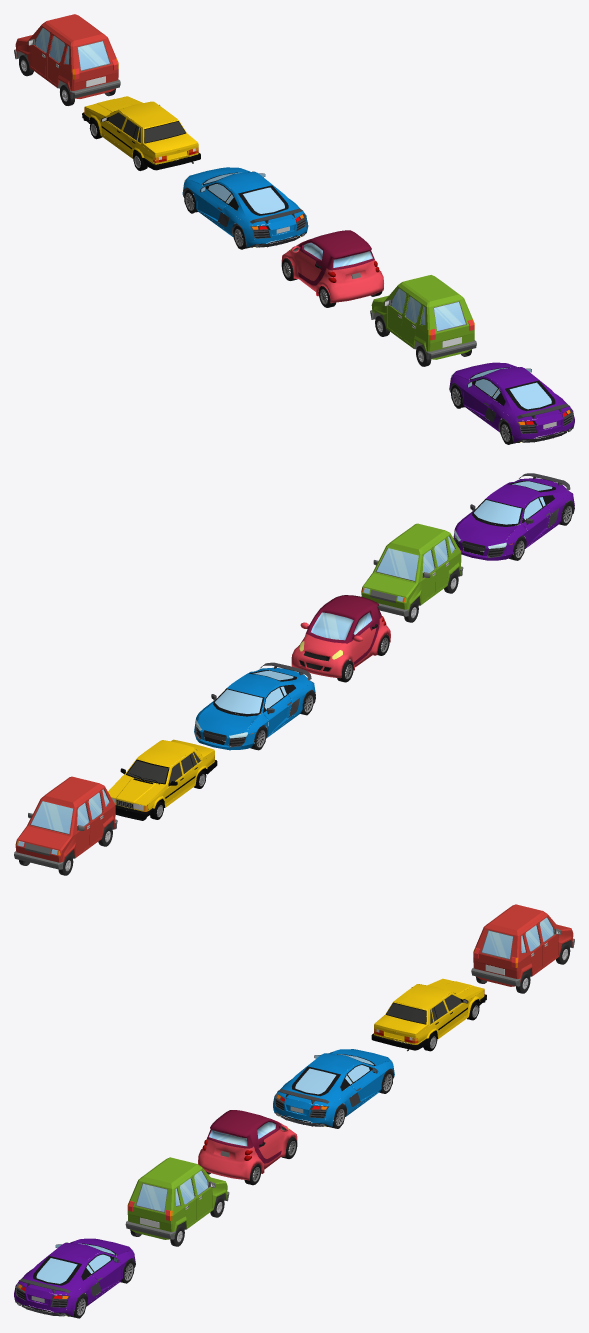
File: Cars.glb
3 renders of one model, top to bottom at view 1: azimuth 30°, elevation 25°; view 2: azimuth 150°, elevation 25°; view 3: azimuth 330°, elevation 25°, orthographic. The views are drawn at different scales.
Visible parts, largest first — view 1: car-3, car-6, car-5, car-1, car-2, car-4; view 2: car-3, car-6, car-1, car-5, car-4, car-2; view 3: car-6, car-3, car-1, car-5, car-2, car-4.
Boxes of the visible parts, x1=… form: car-3: x1=182, y1=167, x2=308, y2=247; car-6: x1=449, y1=362, x2=574, y2=442; car-5: x1=370, y1=275, x2=476, y2=359; car-1: x1=14, y1=14, x2=120, y2=98; car-2: x1=82, y1=96, x2=200, y2=170; car-4: x1=281, y1=230, x2=383, y2=303; car-3: x1=194, y1=662, x2=315, y2=750; car-6: x1=453, y1=473, x2=574, y2=560; car-1: x1=14, y1=776, x2=117, y2=869; car-5: x1=361, y1=523, x2=463, y2=616; car-4: x1=291, y1=595, x2=390, y2=678; car-2: x1=108, y1=739, x2=217, y2=820; car-6: x1=14, y1=1238, x2=135, y2=1316; car-3: x1=273, y1=1049, x2=394, y2=1126; car-1: x1=471, y1=904, x2=574, y2=986; car-5: x1=125, y1=1157, x2=229, y2=1239; car-2: x1=371, y1=978, x2=486, y2=1051; car-4: x1=198, y1=1110, x2=297, y2=1180.
Size of the model in its own units: 2.26 by 1.94 by 29.24.
Materials: 7 (2 with a texture image).
